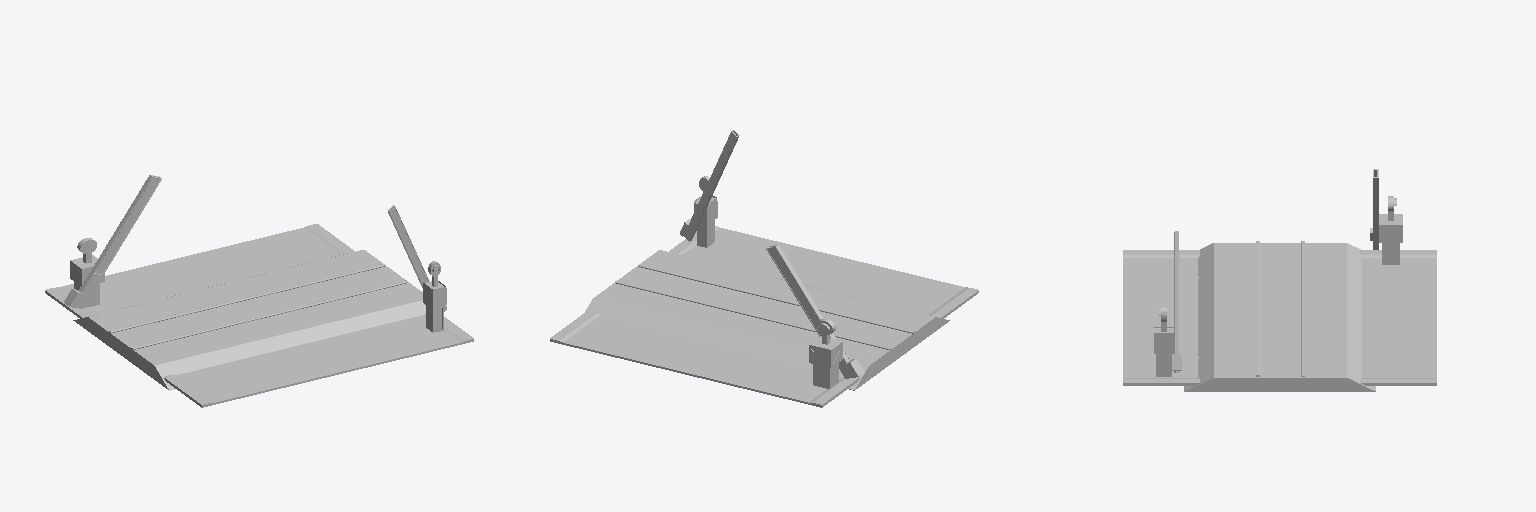
File: rail_road_crossing.obj
The picture shows the model from 3 angles: view 1: azimuth 30°, elevation 25°; view 2: azimuth 150°, elevation 25°; view 3: azimuth 270°, elevation 25°; orthographic projection.
Parts seen in each view (by area): view 1: Basalt_Ballast, road_straight_Cube.952_texture_city, socle_barriere_passage_a_niveau.001_SocleBarriere.001, socle_barriere_passage_a_niveau_SocleBarriere, Rail2.001_Rail, Rail2_Rail, BarrierePlastiqueArriere.001_TextureRougeBlanc, barriere_passage_a_niveau.001_BarrierePlastique.001; view 2: road_straight_Cube.952_texture_city, Basalt_Ballast, socle_barriere_passage_a_niveau.001_SocleBarriere.001, Rail2.001_Rail, Rail2_Rail, socle_barriere_passage_a_niveau_SocleBarriere, BarrierePlastiqueAvant.001_TextureRougeBlanc, barriere_passage_a_niveau.001_BarrierePlastique.001; view 3: Basalt_Ballast, road_straight_Cube.952_texture_city, socle_barriere_passage_a_niveau.001_SocleBarriere.001, socle_barriere_passage_a_niveau_SocleBarriere, barriere_passage_a_niveau_BarrierePlastique, Rail2_Rail, Rail2.001_Rail.
Boxes of the visible parts, x1=… form: Basalt_Ballast: x1=73, y1=250, x2=425, y2=390; road_straight_Cube.952_texture_city: x1=45, y1=224, x2=473, y2=407; socle_barriere_passage_a_niveau.001_SocleBarriere.001: x1=70, y1=238, x2=104, y2=307; socle_barriere_passage_a_niveau_SocleBarriere: x1=423, y1=261, x2=446, y2=332; Rail2.001_Rail: x1=131, y1=280, x2=407, y2=354; Rail2_Rail: x1=109, y1=264, x2=385, y2=337; BarrierePlastiqueArriere.001_TextureRougeBlanc: x1=95, y1=178, x2=159, y2=274; barriere_passage_a_niveau.001_BarrierePlastique.001: x1=70, y1=175, x2=161, y2=305; road_straight_Cube.952_texture_city: x1=550, y1=226, x2=978, y2=407; Basalt_Ballast: x1=585, y1=250, x2=949, y2=390; socle_barriere_passage_a_niveau.001_SocleBarriere.001: x1=809, y1=319, x2=842, y2=388; Rail2.001_Rail: x1=638, y1=264, x2=914, y2=338; Rail2_Rail: x1=615, y1=281, x2=892, y2=353; socle_barriere_passage_a_niveau_SocleBarriere: x1=694, y1=176, x2=717, y2=247; BarrierePlastiqueAvant.001_TextureRougeBlanc: x1=768, y1=248, x2=821, y2=335; barriere_passage_a_niveau.001_BarrierePlastique.001: x1=766, y1=245, x2=853, y2=377; Basalt_Ballast: x1=1184, y1=243, x2=1375, y2=391; road_straight_Cube.952_texture_city: x1=1123, y1=250, x2=1436, y2=385; socle_barriere_passage_a_niveau.001_SocleBarriere.001: x1=1379, y1=196, x2=1402, y2=264; socle_barriere_passage_a_niveau_SocleBarriere: x1=1154, y1=307, x2=1173, y2=376; barriere_passage_a_niveau_BarrierePlastique: x1=1174, y1=231, x2=1178, y2=372; Rail2_Rail: x1=1301, y1=241, x2=1304, y2=376; Rail2.001_Rail: x1=1256, y1=241, x2=1259, y2=376.
Size of the model in its own units: 10.4 by 4.69 by 10.